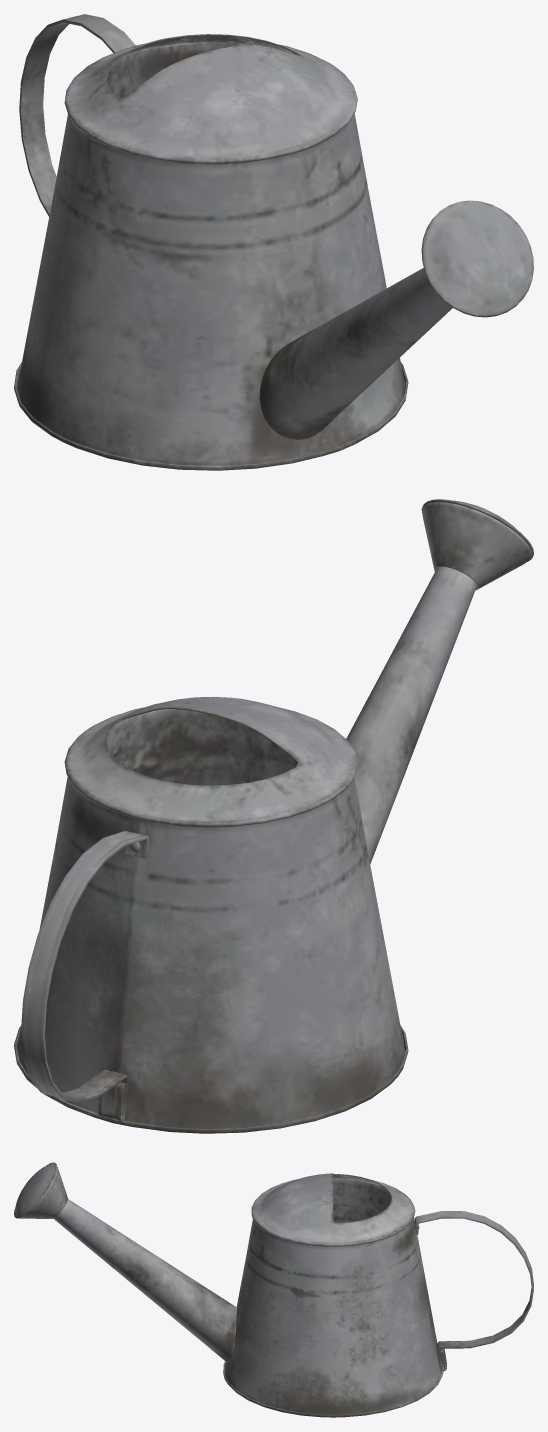
File: watering_can.glb
The picture shows the model from 3 angles, top to bottom: view 1: azimuth 30°, elevation 25°; view 2: azimuth 150°, elevation 25°; view 3: azimuth 270°, elevation 25°; orthographic projection. The views are drawn at different scales.
Visible parts, largest first — view 1: watering_can_metal_01; view 2: watering_can_metal_01; view 3: watering_can_metal_01.
Part boxes in pixels (left/top/right/bottom): watering_can_metal_01: left=14, top=14, right=533, bottom=470; watering_can_metal_01: left=14, top=499, right=533, bottom=1133; watering_can_metal_01: left=14, top=1162, right=533, bottom=1417.
Size of the model in its own units: 0.191 by 0.1968 by 0.4523.
Materials: 1 (1 with a texture image).
